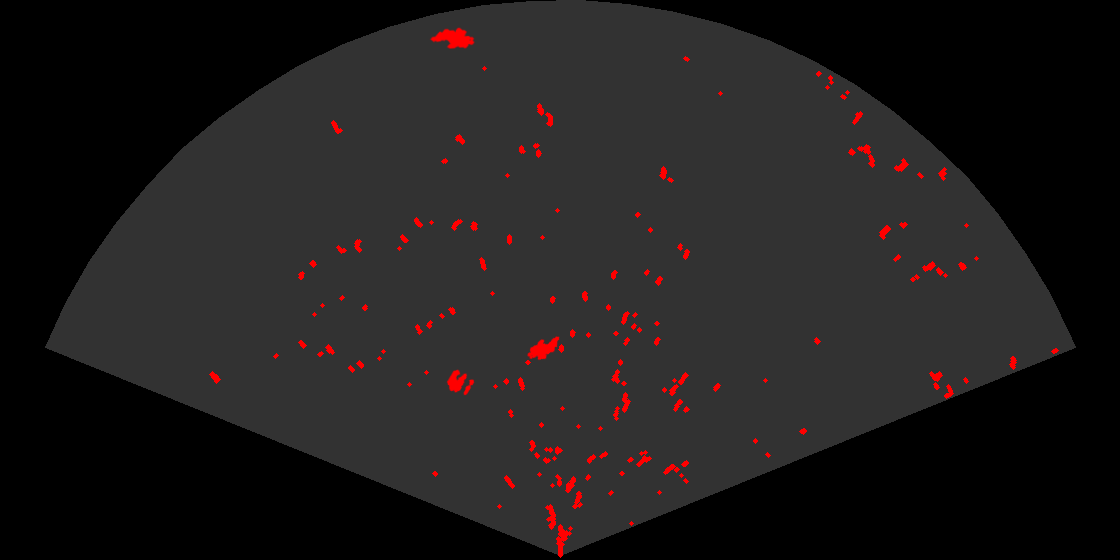AUV: (428, 26, 476, 50), (526, 335, 561, 362)
ball: (445, 368, 476, 397)
